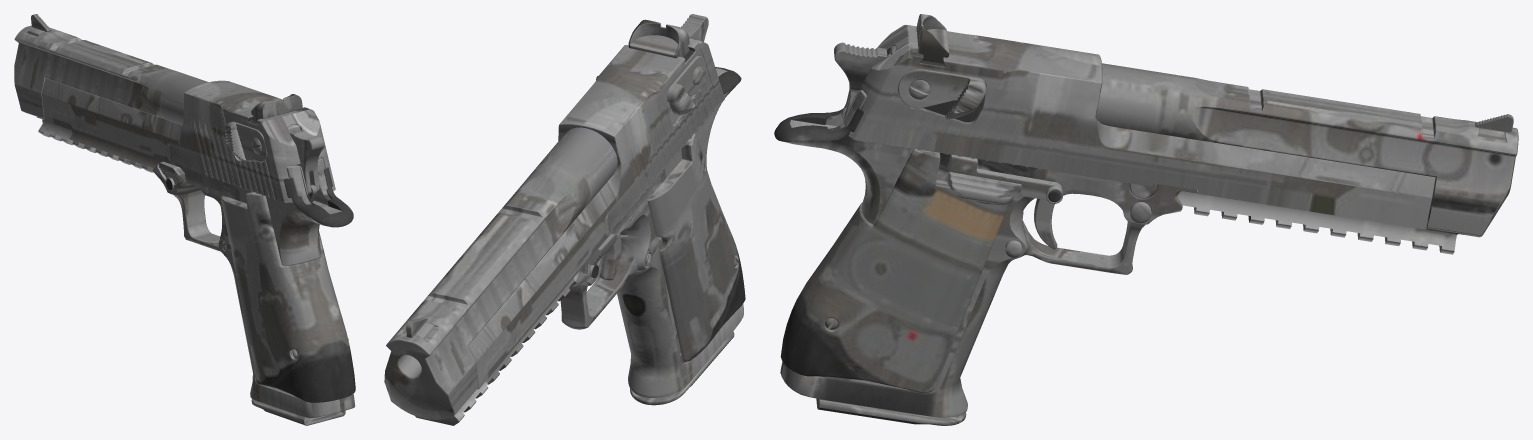
The model's file is p_deagle.glb.
The picture shows the model from 3 angles, left to right: view 1: azimuth 30°, elevation 25°; view 2: azimuth 150°, elevation 25°; view 3: azimuth 270°, elevation 25°; orthographic projection. The views are drawn at different scales.
Parts seen in each view (by area): view 1: p_deagle; view 2: p_deagle; view 3: p_deagle.
Boxes of the visible parts, x1=… form: p_deagle: x1=14, y1=14, x2=355, y2=425; p_deagle: x1=384, y1=14, x2=745, y2=425; p_deagle: x1=774, y1=14, x2=1518, y2=425.
Bounding box in the file's own units: 0.0704 × 0.2611 × 0.446.
1 material, 1 textured.
